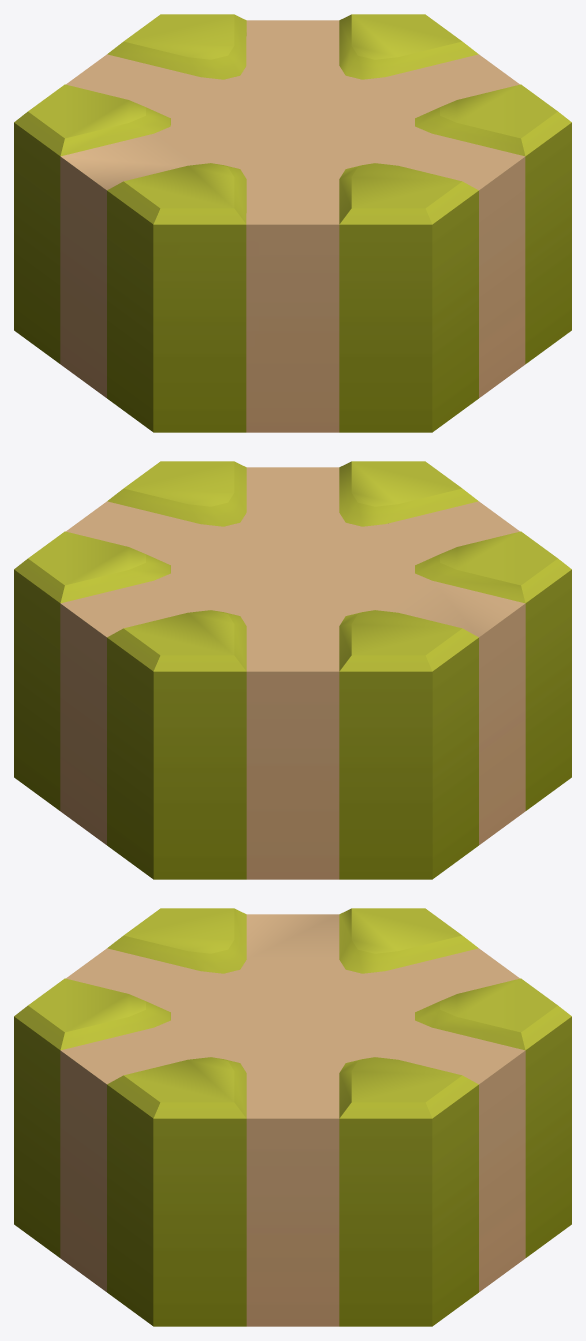
File: kaykit-medieval-hexagon-pack-hex-road-l.glb
The picture shows the model from 3 angles, top to bottom: view 1: azimuth 30°, elevation 25°; view 2: azimuth 150°, elevation 25°; view 3: azimuth 270°, elevation 25°; orthographic projection.
Visible parts, largest first — view 1: hex_road_L; view 2: hex_road_L; view 3: hex_road_L.
Boxes of the visible parts, x1,y1,x2,y2 form: hex_road_L: [14, 14, 571, 432]; hex_road_L: [14, 461, 571, 879]; hex_road_L: [14, 908, 571, 1326].
Size of the model in its own units: 2 by 1 by 2.31.
Materials: 1 (1 with a texture image).
